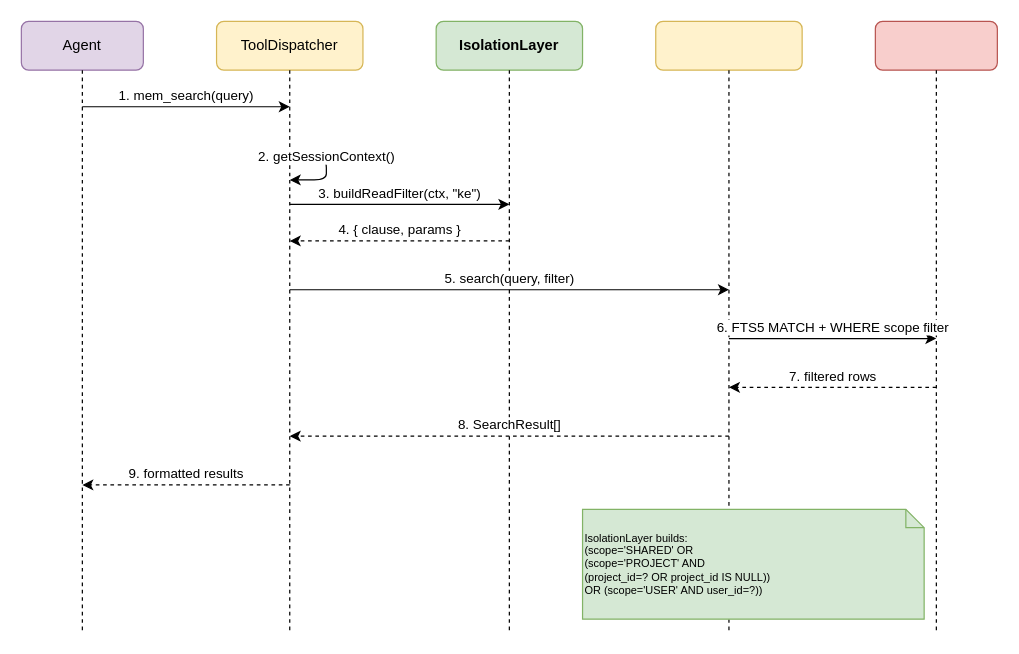
Image size: 1019x654. Some labels were removed from this diagram. The shapes that lost their labels are listed below. From the top down, each one's centre as x and y in pixels, then its label:
At point 728,45: "MemoryEngine".
At point 935,45: "SQLite".
